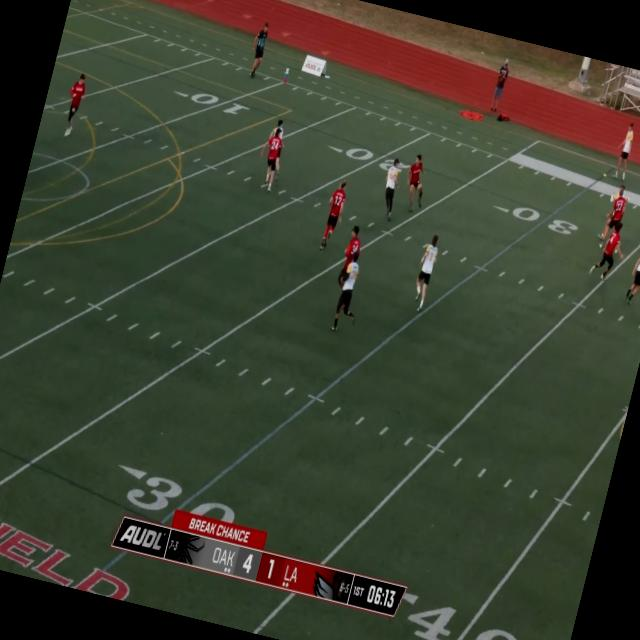Disc: (609, 192, 615, 202), (324, 74, 329, 78)
Player: (328, 252, 366, 328), (408, 235, 442, 312), (253, 125, 290, 194), (318, 178, 351, 251), (588, 222, 628, 282), (374, 156, 406, 221), (398, 153, 432, 214), (60, 71, 90, 138), (336, 224, 365, 289), (598, 183, 630, 240), (260, 118, 291, 176), (602, 186, 632, 239), (248, 22, 272, 76), (624, 245, 640, 308)
